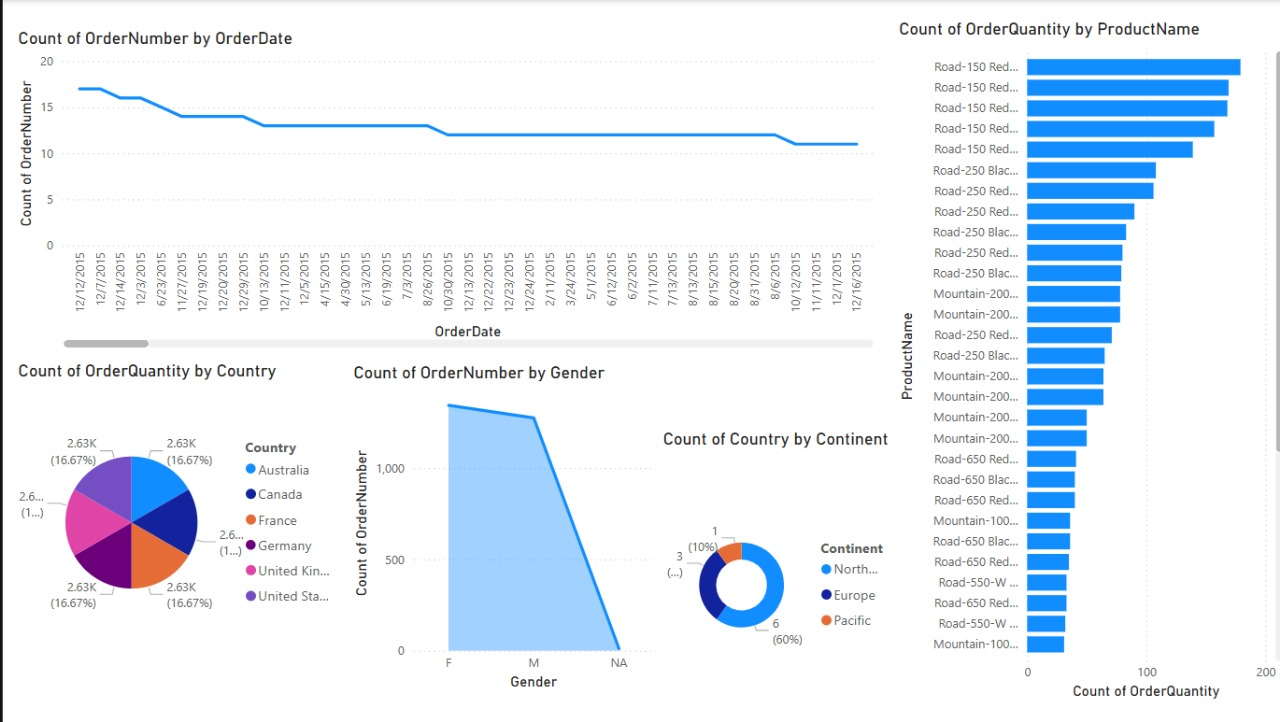

The dashboard page shown, as its layout file describes it:
{"tool":"powerbi","page":{"name":"Page 1","canvas":[1280,720],"ordinal":0},"visuals":[{"type":"lineChart","fields":{"Category":["gold extsales.OrderDate"],"Y":["CountNonNull(gold extsales.OrderNumber)"]},"box":[10,27.4,860.8,323.4],"z":0},{"type":"pieChart","fields":{"Category":["gold extterritories.Country"],"Y":["CountNonNull(gold extsales.OrderQuantity)"]},"box":[10,359.5,350.8,303.5],"z":1},{"type":"barChart","fields":{"Category":["gold extproducts.ProductName"],"Y":["CountNonNull(gold extsales.OrderQuantity)"]},"box":[870.8,0,393.1,682.9],"z":2},{"type":"areaChart","fields":{"Category":["gold extcustomers.Gender"],"Y":["CountNonNull(gold extsales.OrderNumber)"]},"box":[357,350.8,308.5,332.1],"z":4},{"type":"donutChart","fields":{"Category":["gold extterritories.Continent"],"Y":["CountNonNull(gold extterritories.Country)"]},"box":[655.6,426.7,235.1,293.6],"z":5}]}

Visuals, with their boxes in screenshot pixels (x1, y1, x2, y2), scaled from the page's 1280x720 canvas onto the 1280x722 screenshot:
lineChart - gold extsales.OrderDate x CountNonNull(gold extsales.OrderNumber): crop(10, 27, 871, 352)
pieChart - gold extterritories.Country x CountNonNull(gold extsales.OrderQuantity): crop(10, 360, 361, 665)
barChart - gold extproducts.ProductName x CountNonNull(gold extsales.OrderQuantity): crop(871, 0, 1264, 685)
areaChart - gold extcustomers.Gender x CountNonNull(gold extsales.OrderNumber): crop(357, 352, 666, 685)
donutChart - gold extterritories.Continent x CountNonNull(gold extterritories.Country): crop(656, 428, 891, 721)
